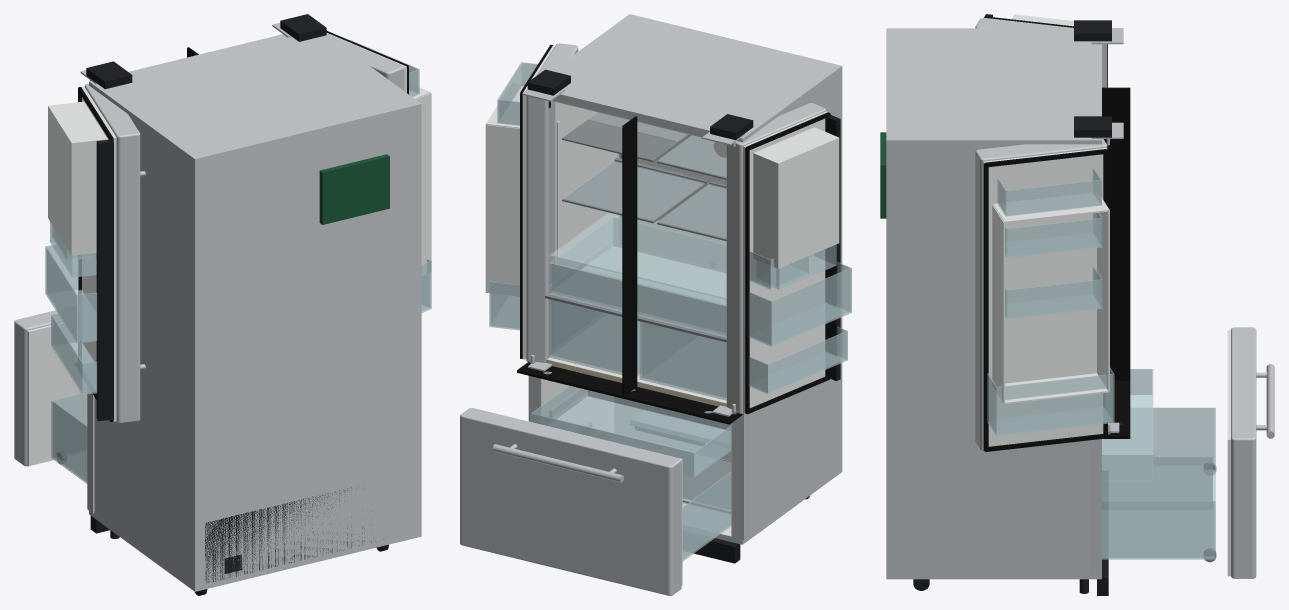
Rendered from LFXS27566S_open.glb.
3 renders of one model, left to right at view 1: azimuth 30°, elevation 25°; view 2: azimuth 150°, elevation 25°; view 3: azimuth 270°, elevation 25°, orthographic. The views are drawn at different scales.
Visible parts, largest first — view 1: shell.004 Cabinet back panel + rear insulation [â] (D), shell.001 Cabinet side panel L [â] (C), shell.003 Cabinet top panel [â] (C), doors.029 Left refrigerator door slab (PCM stainless, foam) , doors.036 In-door ice maker housing (Slim SpacePlus) [AEQ731, shell.002 Cabinet side panel R [â] (C), doors.057 Freezer drawer liner [ADD73719008] (C), doors.042 Centre mullion (flipper), heated [AGU75188619] (C), mech.102 Main PCB in case [EBR74796443] (C), mech.106 Machine room cover [ACQ85930901] (C), doors.040 Gallon door bin (L) [MAN63048701] (P), freezer.059 Durabase lower basket + divider [AJP73594404] (P (+12 smaller); view 2: doors.056 Freezer drawer front (foam, stainless) [ADC7392810, shell.003 Cabinet top panel [â] (C), shell.001 Cabinet side panel L [â] (C), fresh.080 Glide N' Serve drawer [AJP73574805] (P), doors.036 In-door ice maker housing (Slim SpacePlus) [AEQ731, freezer.062 Upper pull-out tray [AJP73574504] (P), doors.030 Door liner L [â] (P), fresh.081 Glide N' Serve glass cover [ACQ85891502] (P), doors.043 Right refrigerator door slab (PCM stainless, foam), doors.047 Door-in-Door 'Home Bar' case [MBN63442501] (P), shell.004 Cabinet back panel + rear insulation [â] (D), shell.007 Fresh-food inner liner (ABS) 818x1066x575 [â] (D) (+37 smaller); view 3: shell.002 Cabinet side panel R [â] (C), shell.003 Cabinet top panel [â] (C), doors.044 Door liner R [â] (P), freezer.059 Durabase lower basket + divider [AJP73594404] (P, shell.004 Cabinet back panel + rear insulation [â] (D), doors.047 Door-in-Door 'Home Bar' case [MBN63442501] (P), doors.056 Freezer drawer front (foam, stainless) [ADC7392810, doors.054 Centre door seam [â] (P), doors.051 Gallon door bin (R) [MAN63048701] (P), doors.043 Right refrigerator door slab (PCM stainless, foam), freezer.062 Upper pull-out tray [AJP73574504] (P), doors.045 Door gasket R [ADX73550627] (C) (+13 smaller).
Part boxes in pixels (x1,y1,x2,y2): shell.004 Cabinet back panel + rear insulation [â] (D): [171, 88, 421, 591]; shell.001 Cabinet side panel L [â] (C): [89, 81, 206, 591]; shell.003 Cabinet top panel [â] (C): [89, 34, 421, 166]; doors.029 Left refrigerator door slab (PCM stainless, foam) : [84, 83, 140, 423]; doors.036 In-door ice maker housing (Slim SpacePlus) [AEQ731: [48, 101, 107, 255]; shell.002 Cabinet side panel R [â] (C): [317, 35, 421, 532]; doors.057 Freezer drawer liner [ADD73719008] (C): [27, 322, 86, 465]; doors.042 Centre mullion (flipper), heated [AGU75188619] (C): [96, 139, 113, 421]; mech.102 Main PCB in case [EBR74796443] (C): [319, 154, 389, 224]; mech.106 Machine room cover [ACQ85930901] (C): [205, 487, 387, 586]; doors.040 Gallon door bin (L) [MAN63048701] (P): [45, 245, 97, 343]; freezer.059 Durabase lower basket + divider [AJP73594404] (P: [51, 393, 87, 483]; doors.056 Freezer drawer front (foam, stainless) [ADC7392810: [460, 408, 681, 595]; shell.003 Cabinet top panel [â] (C): [552, 14, 842, 142]; shell.001 Cabinet side panel L [â] (C): [732, 65, 842, 544]; fresh.080 Glide N' Serve drawer [AJP73574805] (P): [549, 217, 726, 335]; doors.036 In-door ice maker housing (Slim SpacePlus) [AEQ731: [753, 127, 839, 268]; freezer.062 Upper pull-out tray [AJP73574504] (P): [531, 385, 731, 477]; doors.030 Door liner L [â] (P): [743, 111, 827, 412]; fresh.081 Glide N' Serve glass cover [ACQ85891502] (P): [549, 212, 726, 299]; doors.043 Right refrigerator door slab (PCM stainless, foam): [526, 43, 578, 362]; doors.047 Door-in-Door 'Home Bar' case [MBN63442501] (P): [485, 83, 524, 296]; shell.004 Cabinet back panel + rear insulation [â] (D): [609, 14, 842, 486]; shell.007 Fresh-food inner liner (ABS) 818x1066x575 [â] (D): [546, 100, 726, 403]; shell.002 Cabinet side panel R [â] (C): [886, 135, 1101, 579]; shell.003 Cabinet top panel [â] (C): [886, 28, 1101, 148]; doors.044 Door liner R [â] (P): [983, 147, 1106, 449]; freezer.059 Durabase lower basket + divider [AJP73594404] (P: [1102, 407, 1215, 559]; shell.004 Cabinet back panel + rear insulation [â] (D): [886, 28, 933, 579]; doors.047 Door-in-Door 'Home Bar' case [MBN63442501] (P): [992, 193, 1109, 404]; doors.056 Freezer drawer front (foam, stainless) [ADC7392810: [1231, 327, 1256, 578]; doors.054 Centre door seam [â] (P): [1102, 87, 1130, 380]; doors.051 Gallon door bin (R) [MAN63048701] (P): [987, 367, 1114, 436]; doors.043 Right refrigerator door slab (PCM stainless, foam): [975, 139, 1107, 450]; freezer.062 Upper pull-out tray [AJP73574504] (P): [1102, 369, 1153, 481]; doors.045 Door gasket R [ADX73550627] (C): [983, 149, 1107, 451].
Bounding box in the file's own units: 1437 × 1772 × 1350.
